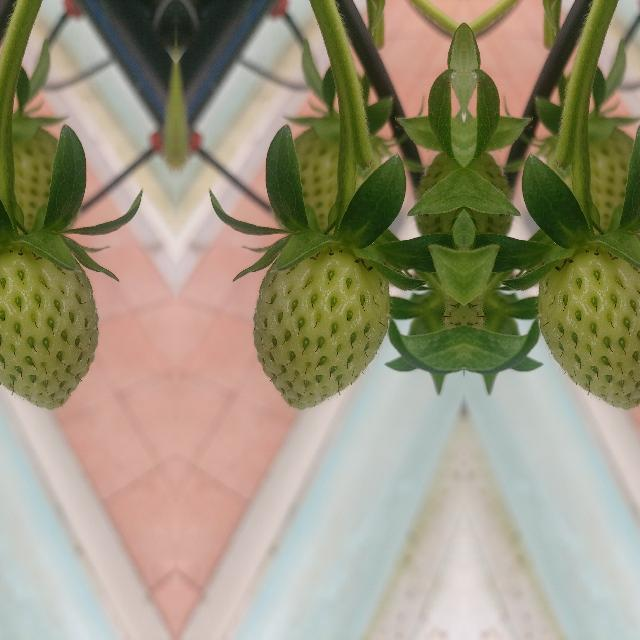Health_25: (252, 242, 388, 408), (537, 242, 640, 408), (0, 242, 98, 408), (288, 120, 384, 234), (542, 120, 638, 234), (0, 120, 61, 234)
